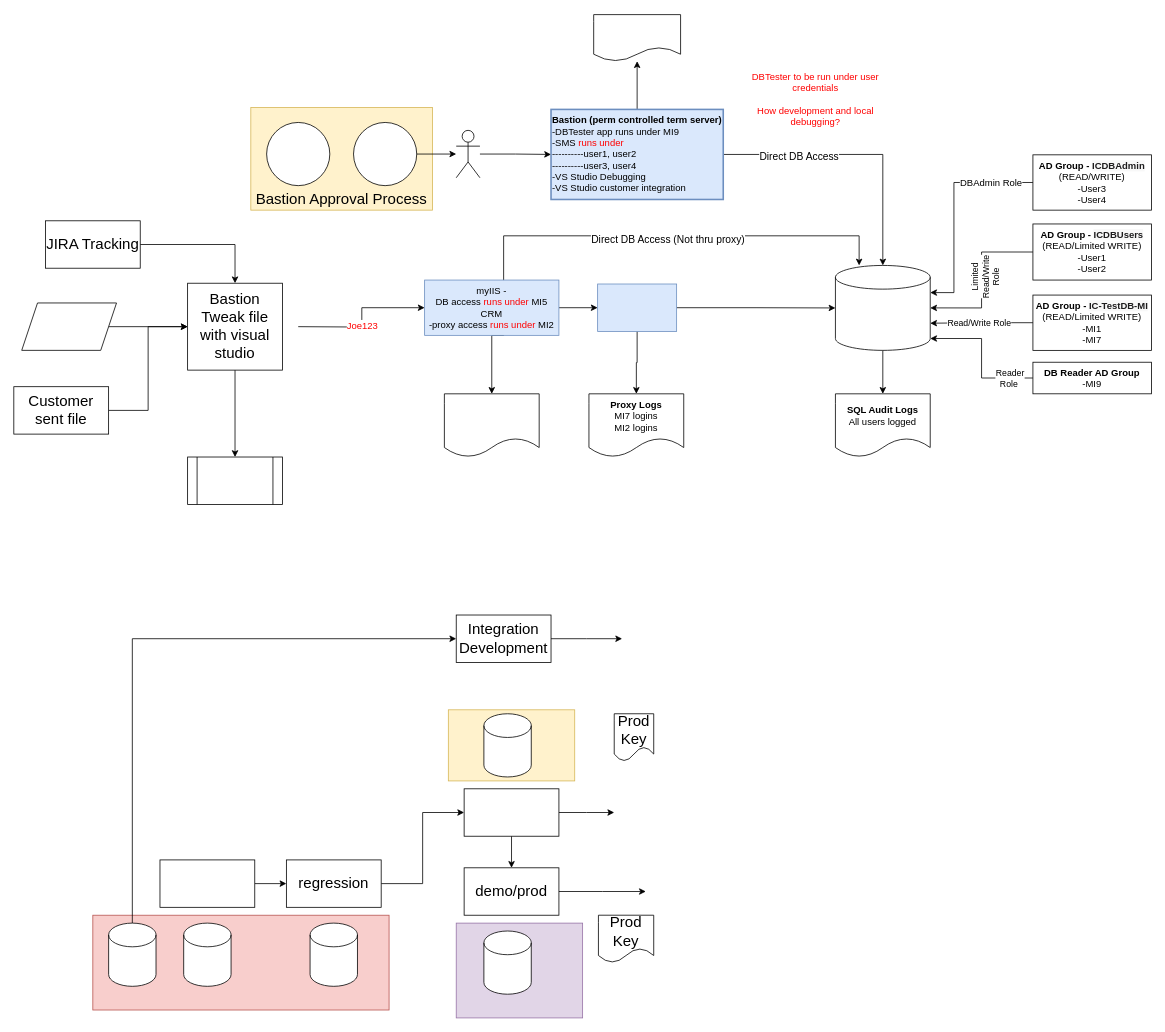
Image size: 1165x1032. Some labels were removed from this diagram. Each missing label, with the centre of its shape:
Alien Vault captures access logs to Bastion: the point at 637,37
DataWriter Role - -ICDBUsers -IC-TestDBMI DataReader Role -IC-TestDB: the point at 882,307
DBProxy - Allows MI2 - runs under MI7: the point at 637,307
dev: the point at 207,883
ftp: the point at 69,326
preview: the point at 511,812
Source Control: the point at 234,480
User1,2,3,4: the point at 467,154
Web app Logs user logins: the point at 491,425
